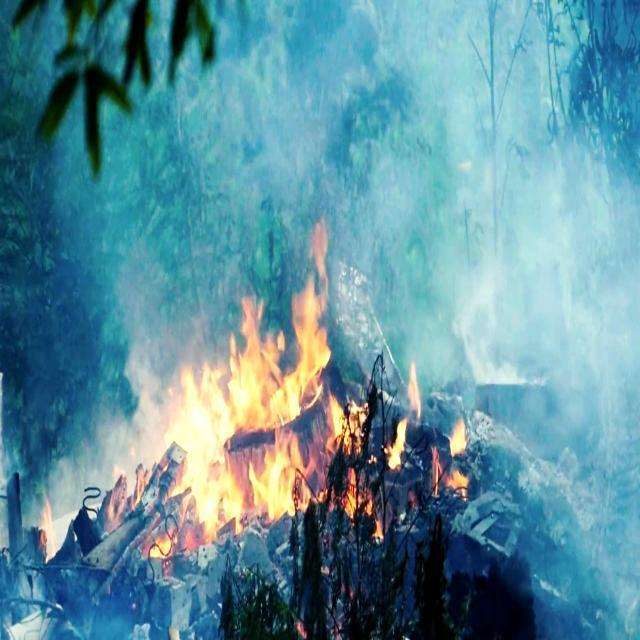Fire: (124, 264, 336, 562), (345, 362, 479, 512)
Smoke: (56, 0, 640, 361)
